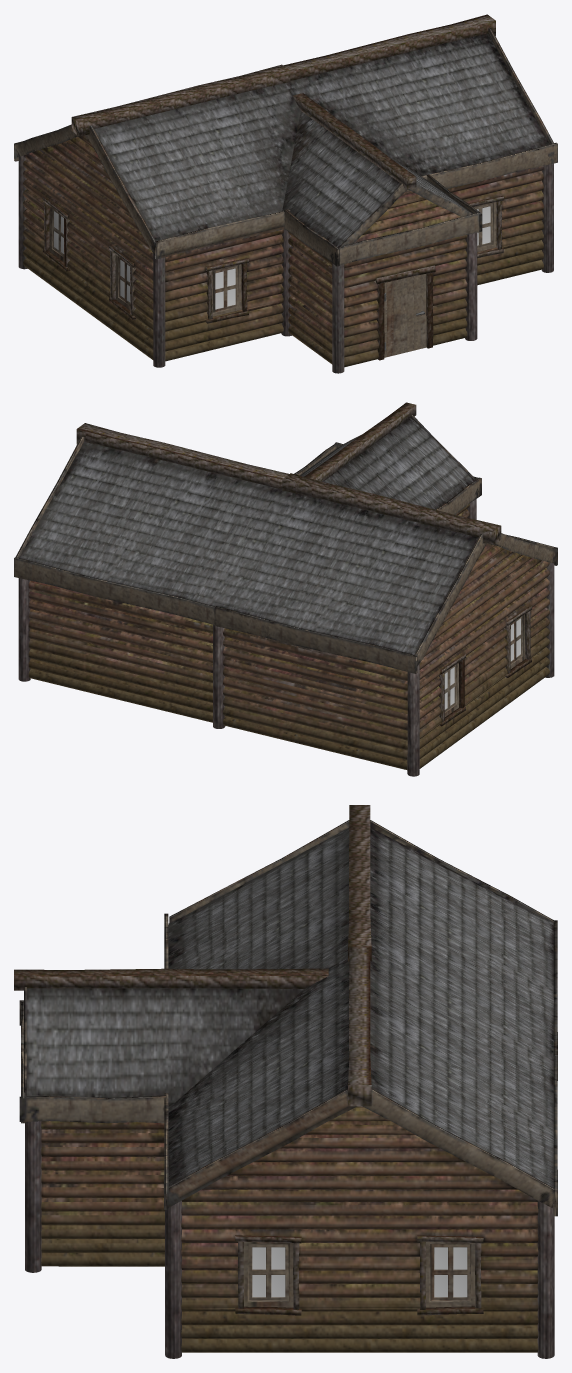
File: log_cabin_wooden.glb
3 renders of one model, top to bottom at view 1: azimuth 30°, elevation 25°; view 2: azimuth 150°, elevation 25°; view 3: azimuth 270°, elevation 25°, orthographic. The views are drawn at different scales.
Parts seen in each view (by area): view 1: Cabin; view 2: Cabin; view 3: Cabin.
Boxes of the visible parts, x1,y1,x2,y2 form: Cabin: (14,14,557,373); Cabin: (14,402,557,776); Cabin: (14,805,557,1358).
Bounding box in the file's own units: 10.71 × 4.94 × 8.76.
Materials: 1 (1 with a texture image).
